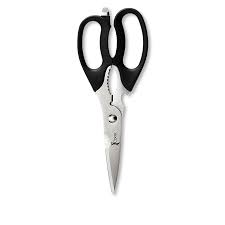tihiras: (78, 6, 150, 196)
